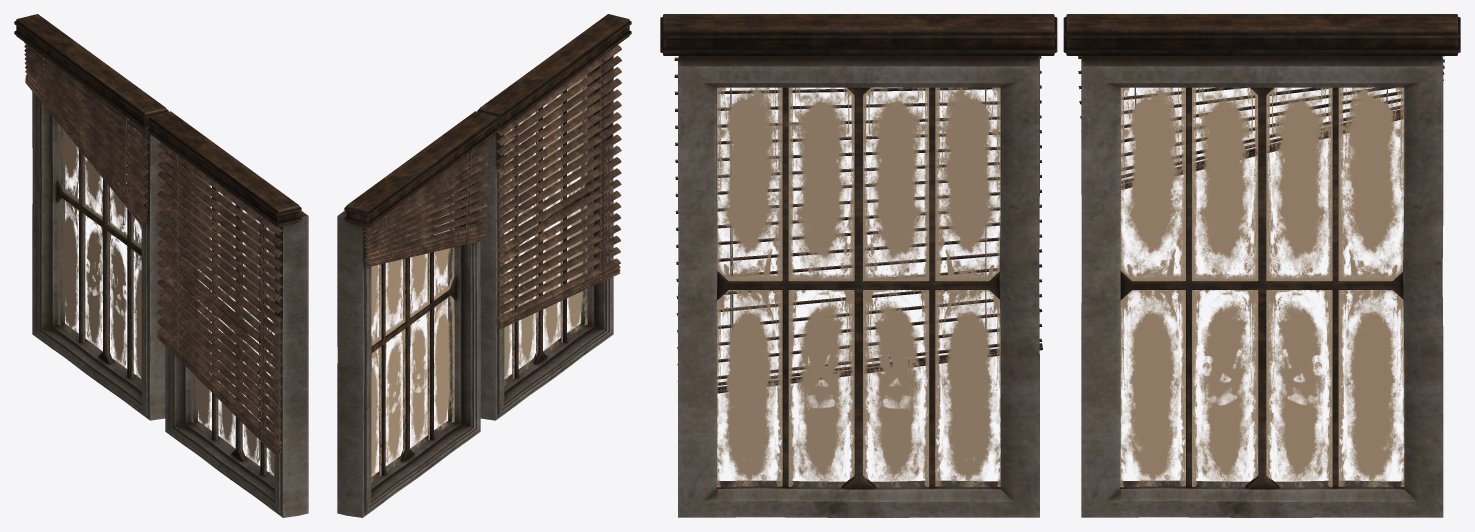
Rendered from windows_-_marmoka.glb.
3 views of the same model, side by side, from view 1: azimuth 30°, elevation 25°; view 2: azimuth 150°, elevation 25°; view 3: azimuth 270°, elevation 25° (orthographic). The views are drawn at different scales.
Parts seen in each view (by area): view 1: Blinds_, Wood, Wood_, Glass, Blinds, Glass_; view 2: Wood, Blinds_, Wood_, Glass, Blinds, Glass_; view 3: Glass, Glass_, Wood_, Wood, Blinds_, Blinds.
Part boxes in pixels (x1=…): Blinds_: x1=157, y1=142, x2=282, y2=460; Wood: x1=14, y1=14, x2=168, y2=420; Wood_: x1=147, y1=111, x2=308, y2=517; Glass: x1=58, y1=124, x2=141, y2=383; Blinds: x1=24, y1=42, x2=149, y2=225; Glass_: x1=191, y1=171, x2=274, y2=480; Wood: x1=337, y1=111, x2=498, y2=517; Blinds_: x1=496, y1=45, x2=621, y2=328; Wood_: x1=477, y1=14, x2=631, y2=420; Glass: x1=371, y1=178, x2=454, y2=482; Blinds: x1=363, y1=141, x2=488, y2=266; Glass_: x1=504, y1=75, x2=587, y2=384; Glass: x1=1120, y1=87, x2=1404, y2=487; Glass_: x1=717, y1=87, x2=1000, y2=487; Wood_: x1=660, y1=14, x2=1057, y2=517; Wood: x1=1063, y1=14, x2=1460, y2=517; Blinds_: x1=674, y1=56, x2=1042, y2=393; Blinds: x1=1078, y1=56, x2=1444, y2=189.
Size of the model in its own units: 0.4475 by 3.6 by 5.46.
6 materials, 5 textured.
